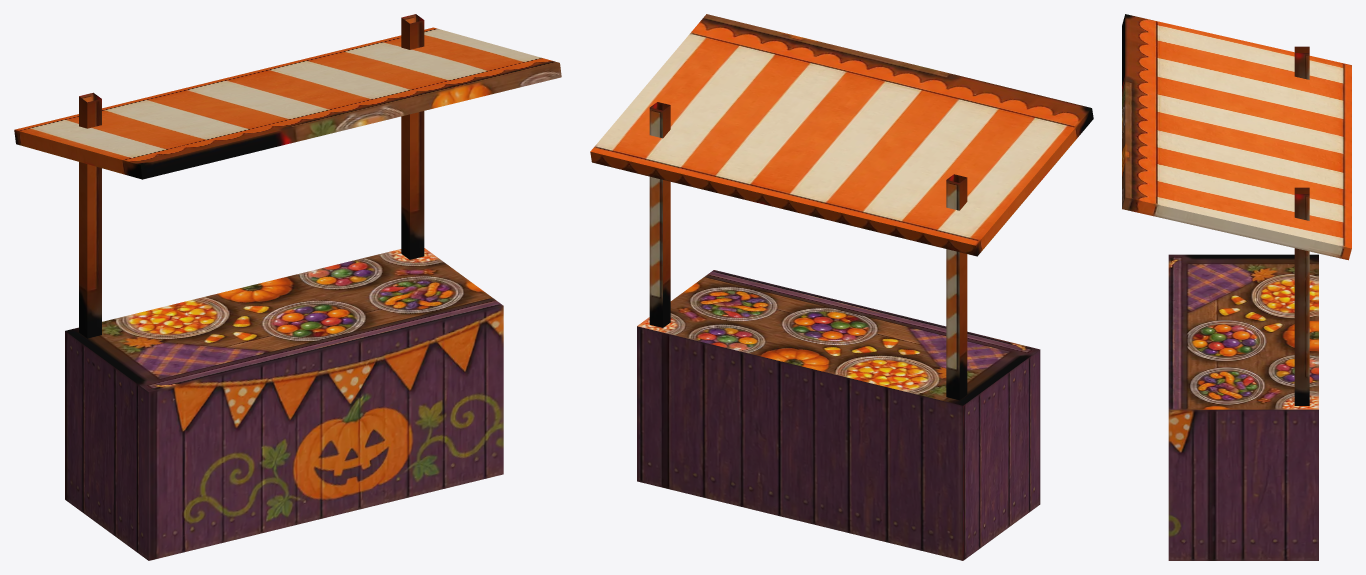
File: candy_stall.glb
The picture shows the model from 3 angles, left to right: view 1: azimuth 30°, elevation 25°; view 2: azimuth 150°, elevation 25°; view 3: azimuth 270°, elevation 25°; orthographic projection. The views are drawn at different scales.
Visible parts, largest first — view 1: GEO-candy_stall; view 2: GEO-candy_stall; view 3: GEO-candy_stall.
Part boxes in pixels (<box>): GEO-candy_stall: <box>14,14,561,560</box>; GEO-candy_stall: <box>590,14,1093,560</box>; GEO-candy_stall: <box>1122,14,1351,560</box>.
Size of the model in its own units: 2.6 by 2.5 by 1.38.
1 material, 1 textured.
